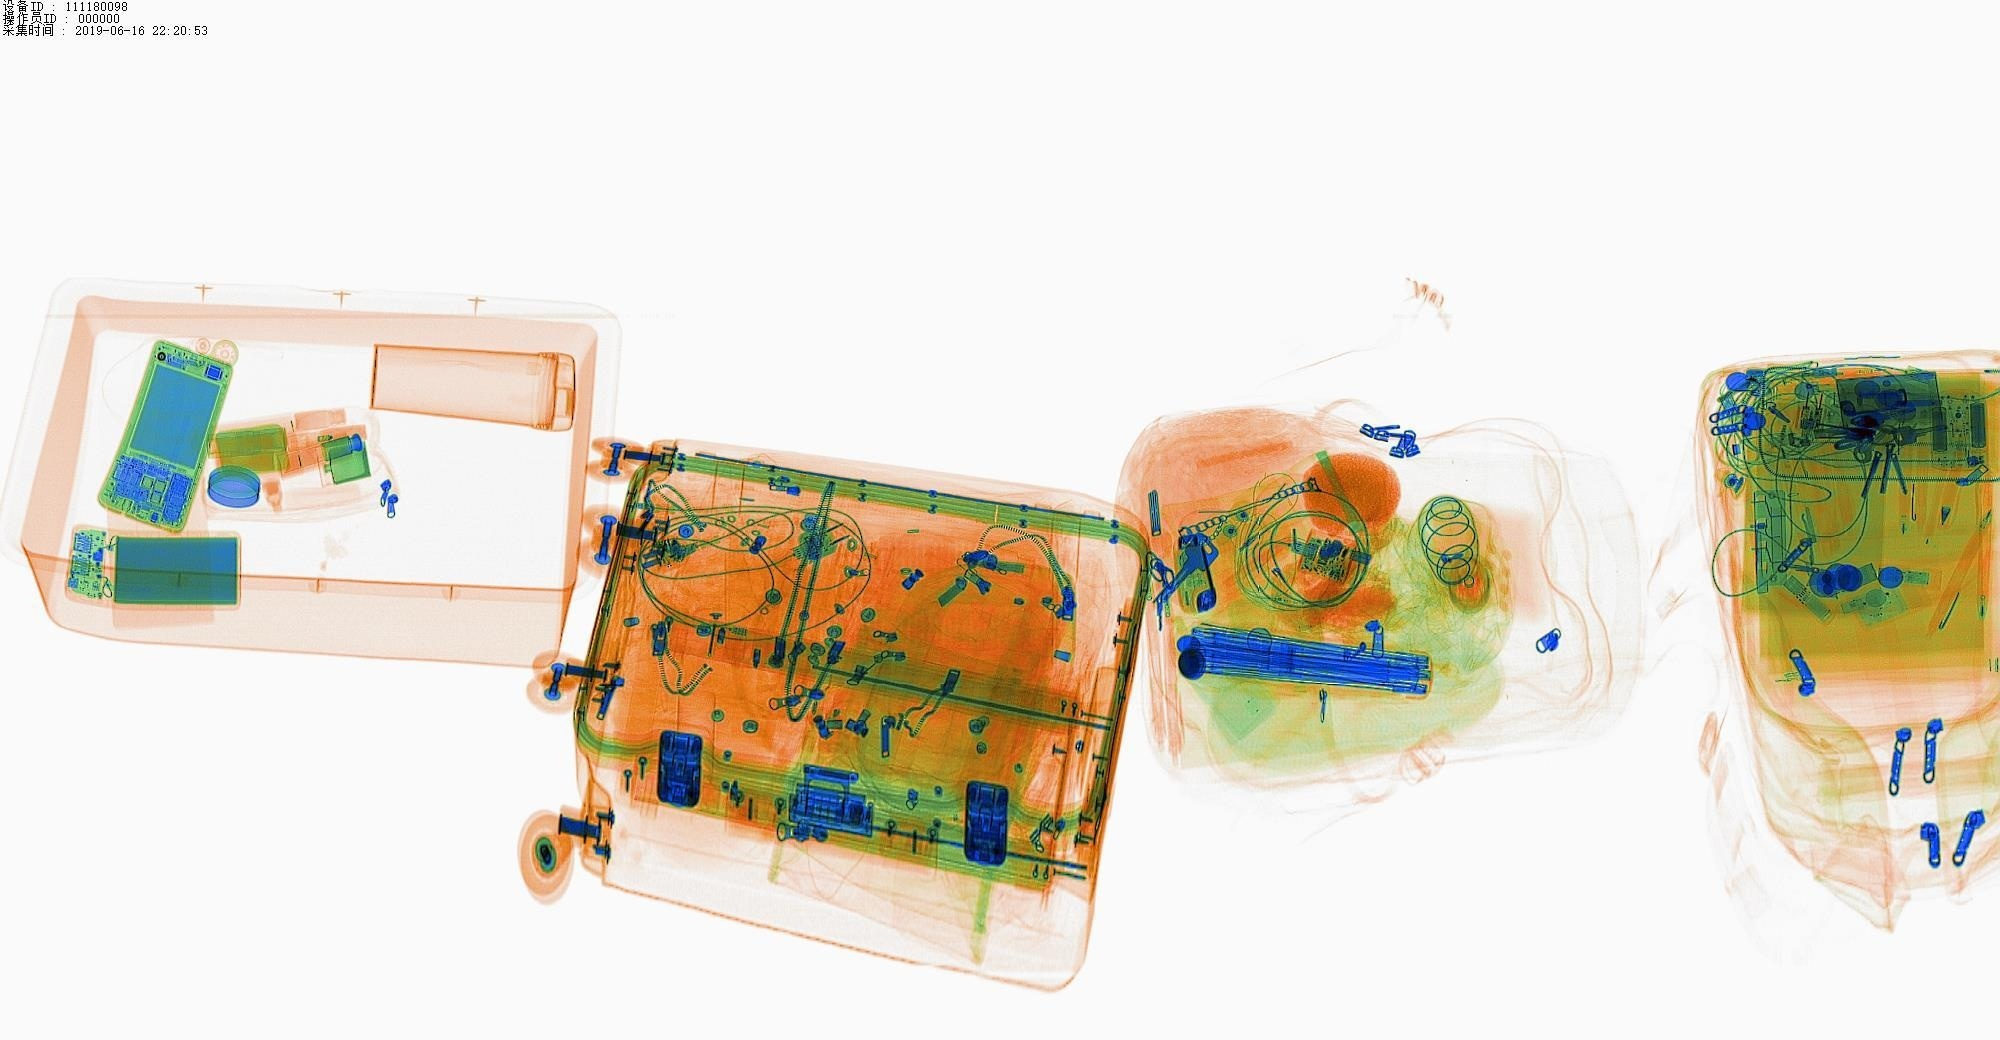NonmetallicFire: (1792, 367, 1885, 404)
